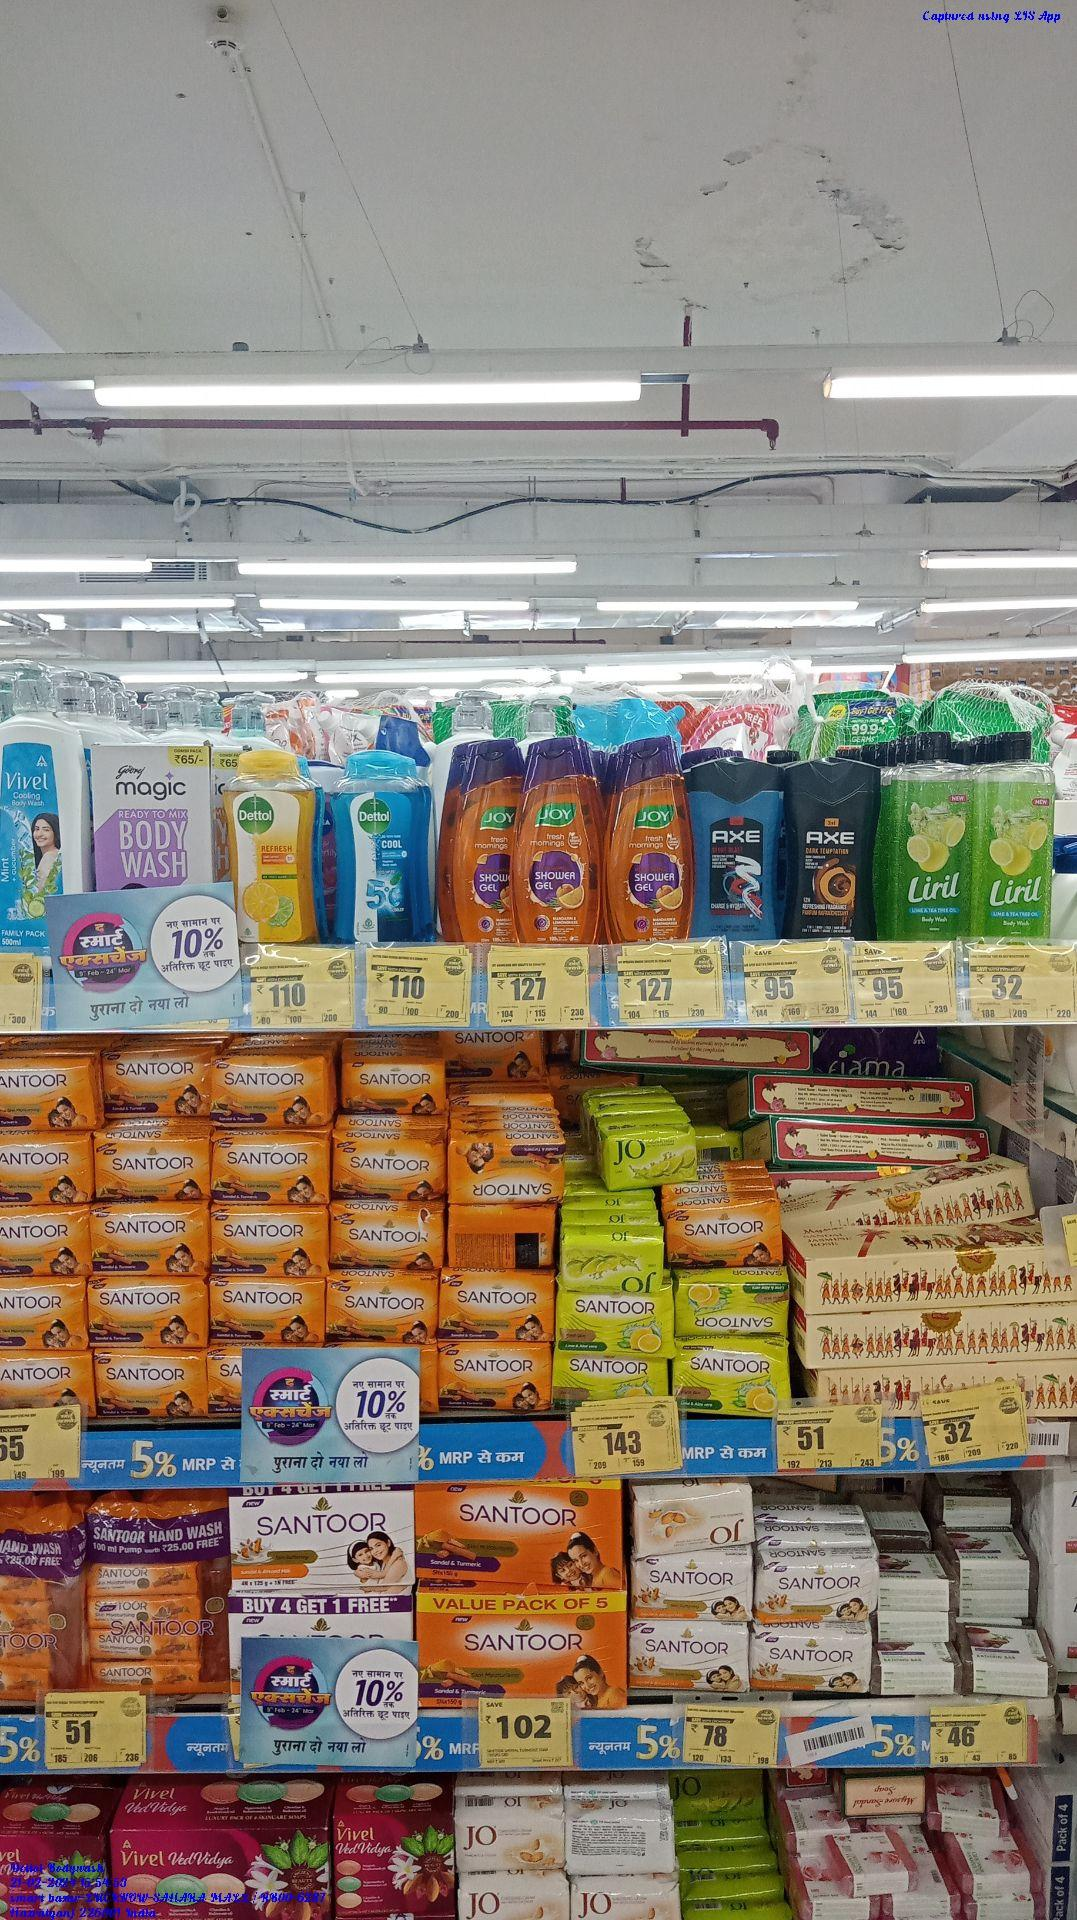Dettol_Bodywash_Cool: (336, 748, 428, 945)
Dettol_Bodywash_Refresh: (233, 742, 305, 942)
Joy_Shower_Gel_Mandarin_and_Lemongrass_250ML: (521, 737, 602, 943), (614, 733, 692, 940), (453, 745, 514, 943)
Liril_Lime_and_Tea_Tree_Oil_Body_Wash_250ML: (895, 733, 973, 942), (982, 733, 1052, 940)
